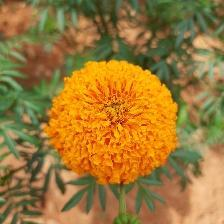marigold: (46, 59, 178, 188)
